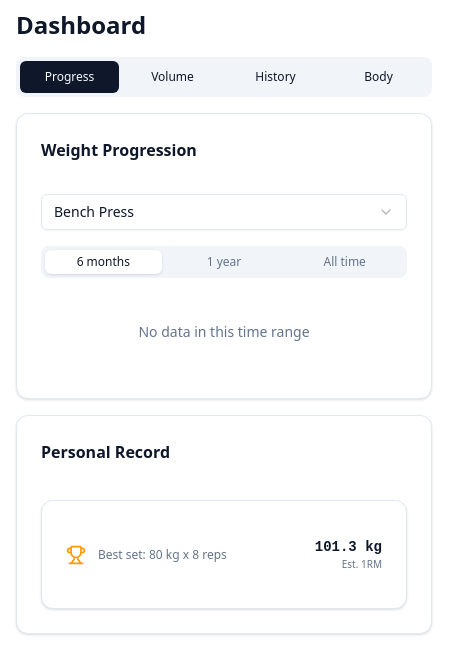
it: Dashboard › switches to History tab and shows past sessions
What coordinates should you click on to do the following:
click the button "History"
I would click on:
 (276, 77)
Its box is [226,61,325,93].
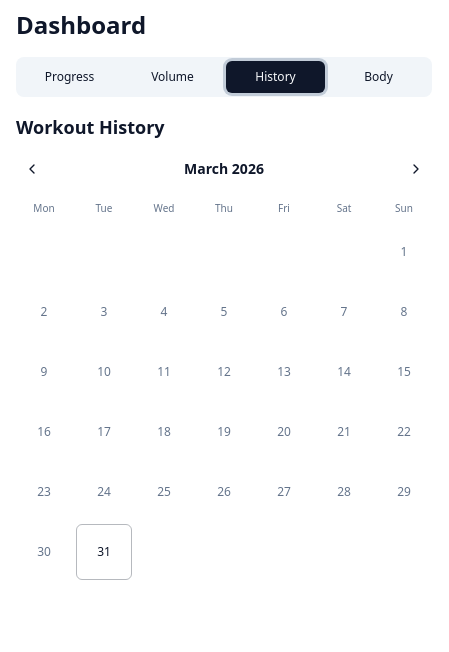
Expected: the heading "Workout History" is shown, [16,115,165,139]
